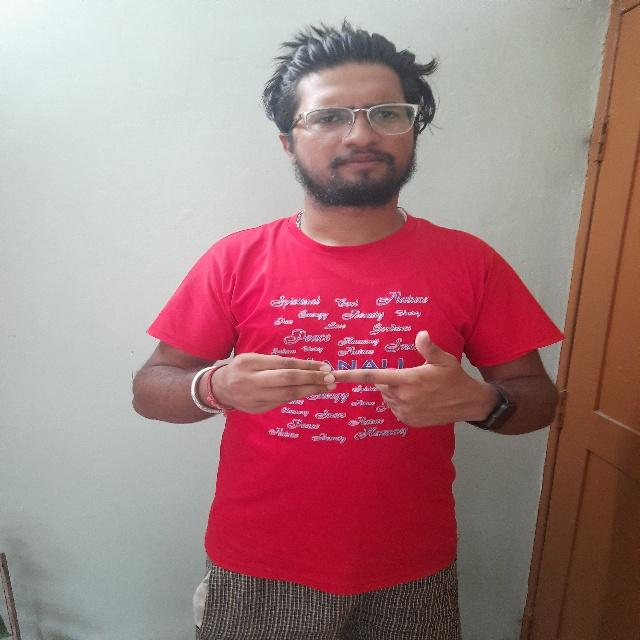Five Fathers: (186, 324, 488, 442)
